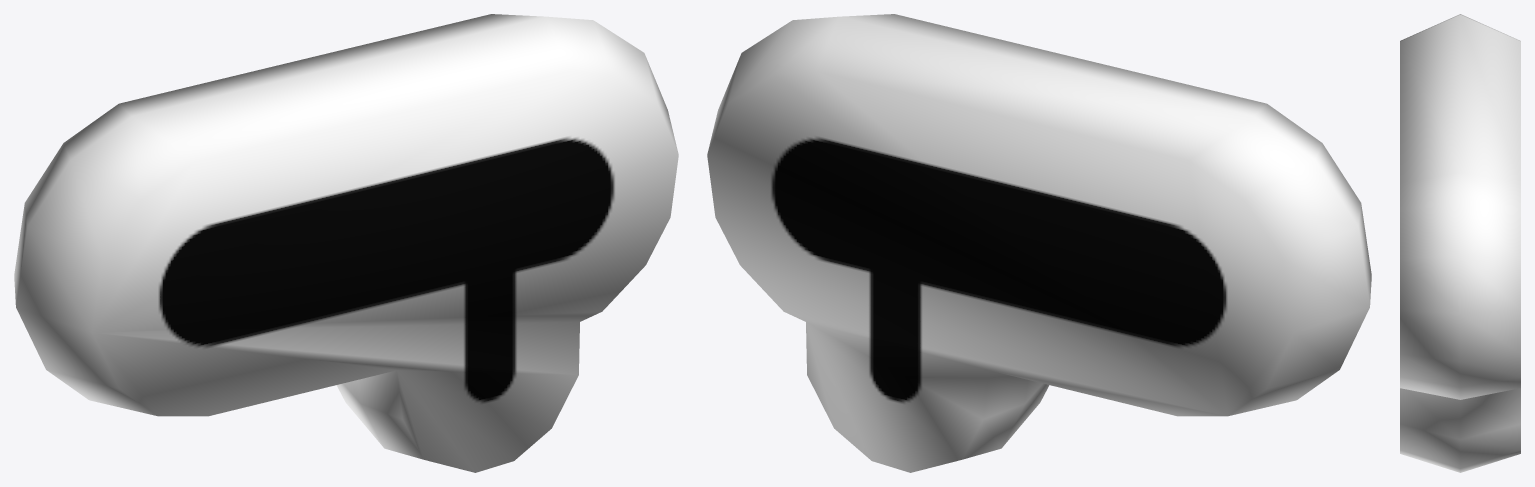
File: mouth_04.fbx
3 renders of one model, left to right at view 1: azimuth 30°, elevation 25°; view 2: azimuth 150°, elevation 25°; view 3: azimuth 270°, elevation 25°, orthographic. The views are drawn at different scales.
Parts seen in each view (by area): view 1: Mouth_04; view 2: Mouth_04; view 3: Mouth_04.
Part boxes in pixels (x1,y1,x2,y2): Mouth_04: (14,14,678,472); Mouth_04: (707,14,1371,472); Mouth_04: (1400,14,1520,472).
Bounding box in the file's own units: 49.75 × 30.81 × 10.32.
